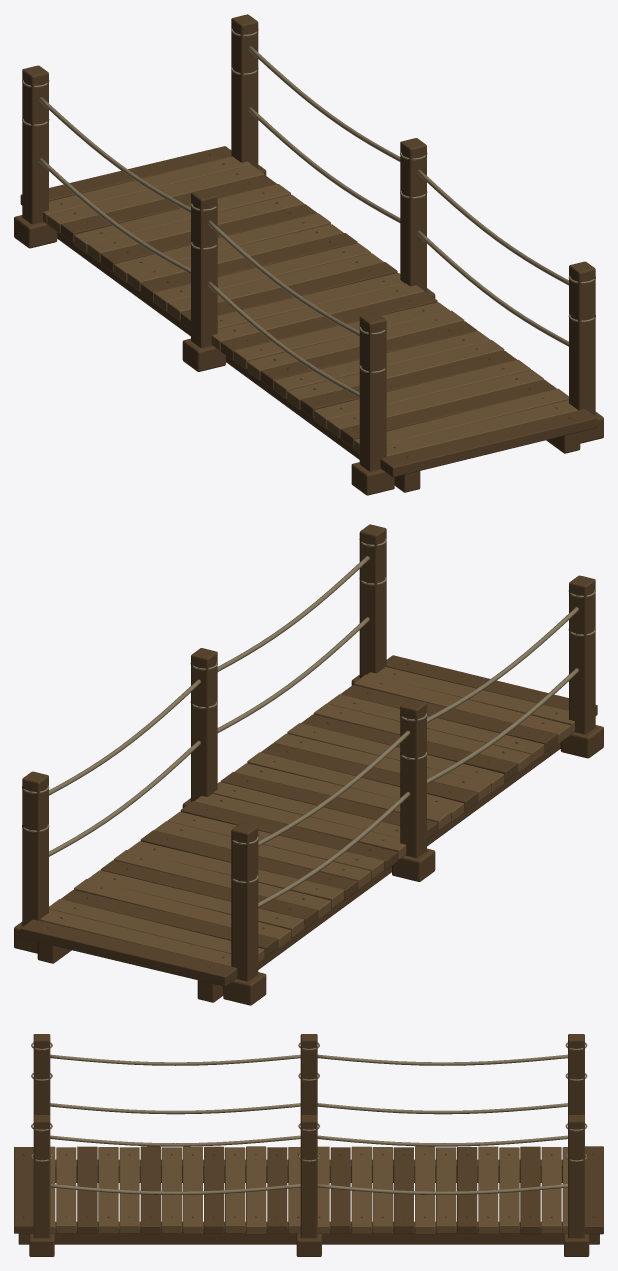
File: bridge.glb
3 views of the same model, one above another, from view 1: azimuth 30°, elevation 25°; view 2: azimuth 150°, elevation 25°; view 3: azimuth 270°, elevation 25° (orthographic). The views are drawn at different scales.
Parts seen in each view (by area): view 1: MV_bridge; view 2: MV_bridge; view 3: MV_bridge.
Boxes of the visible parts, x1,y1,x2,y2 form: MV_bridge: (14,14,603,495); MV_bridge: (14,524,603,1005); MV_bridge: (14,1034,603,1256).
Size of the model in its own units: 2.64 by 1.8 by 7.17.
